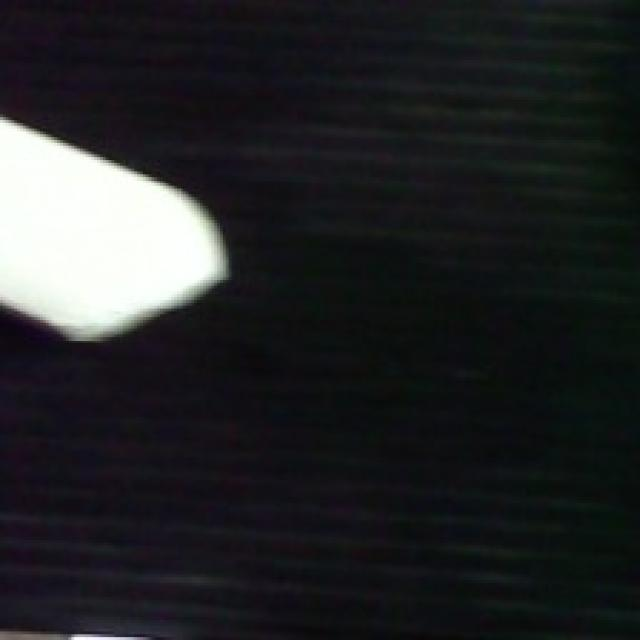defected: (0, 114, 237, 349)
